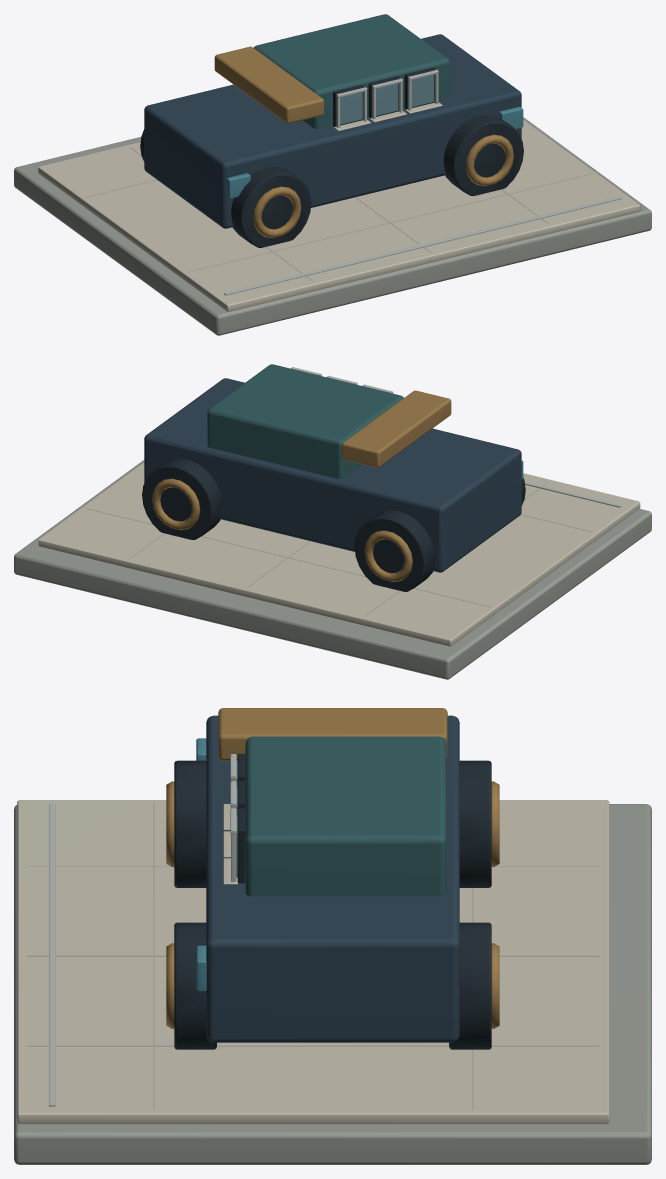
The model's file is idea-2927561a.glb.
3 renders of one model, top to bottom at view 1: azimuth 30°, elevation 25°; view 2: azimuth 150°, elevation 25°; view 3: azimuth 270°, elevation 25°, orthographic. The views are drawn at different scales.
Visible parts, largest first — view 1: Experimental Vehicle Lab; view 2: Experimental Vehicle Lab; view 3: Experimental Vehicle Lab.
Part boxes in pixels (x1,y1,x2,y2): Experimental Vehicle Lab: (14, 14, 651, 335); Experimental Vehicle Lab: (14, 364, 651, 679); Experimental Vehicle Lab: (14, 708, 651, 1164).
Bounding box in the file's own units: 4.8 × 1.56 × 3.9.
